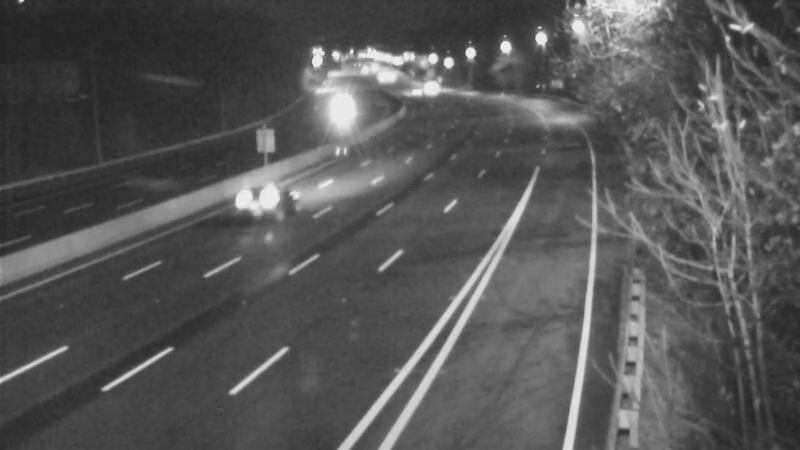vehicle: (211, 164, 291, 244), (401, 62, 451, 112), (388, 64, 438, 114), (312, 85, 362, 135)
